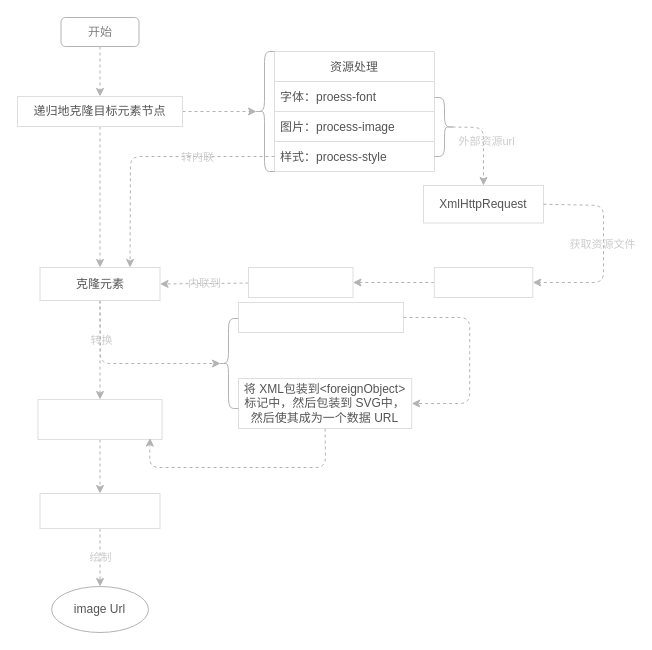
The diagram is 652 pixels wide and 650 high, and some of its shapes have lost their labels. Each missing label, with the centre of its shape:
"base64 图" goes at (x=300, y=282).
"Canvars" goes at (x=99, y=510).
"FileReader" goes at (x=483, y=282).
"SVG Base64 URL" goes at (x=99, y=419).
"将克隆节点序列化为 XML" goes at (x=321, y=317).
